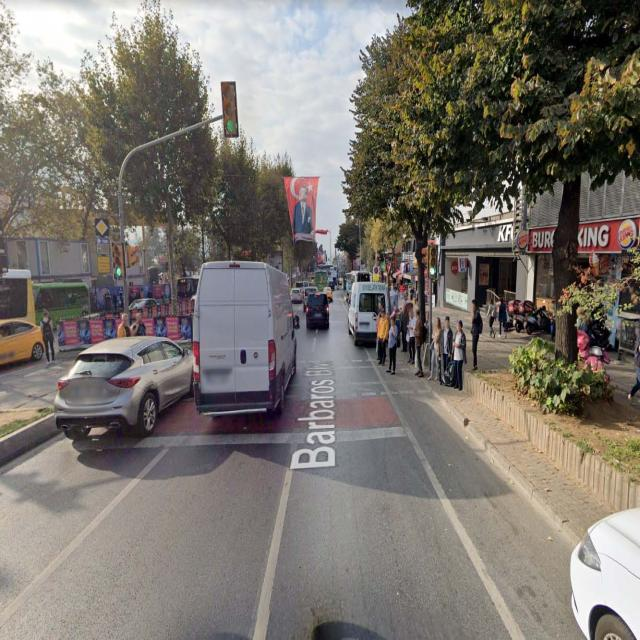yesil: (220, 81, 238, 136), (112, 241, 125, 277), (429, 244, 438, 278)
